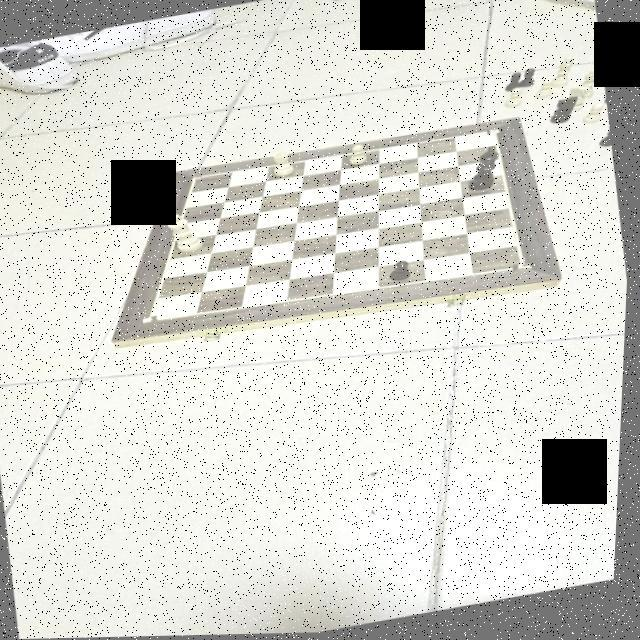chess-table-corners: (514, 264, 533, 274), (144, 316, 160, 324), (486, 128, 499, 136), (191, 174, 203, 181)
